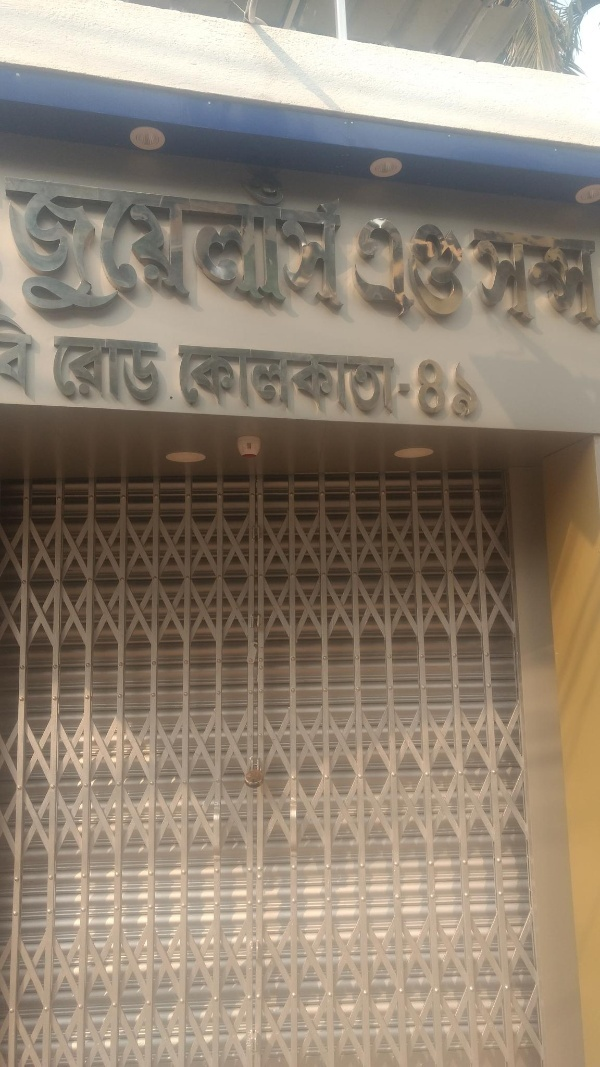text: (17, 175, 32, 312), (33, 175, 48, 312), (49, 175, 64, 312), (65, 175, 80, 312), (81, 175, 96, 312), (97, 175, 112, 312), (113, 175, 128, 312), (129, 175, 144, 312), (145, 175, 160, 312), (161, 175, 176, 312), (177, 175, 192, 312), (193, 175, 208, 312), (209, 175, 224, 312), (225, 175, 240, 312), (241, 175, 256, 312), (257, 175, 272, 312), (273, 175, 288, 312), (289, 175, 304, 312), (305, 175, 320, 312), (321, 175, 336, 312), (3, 175, 16, 312), (353, 215, 368, 320), (369, 215, 384, 320), (385, 215, 400, 320), (401, 215, 416, 320), (417, 215, 432, 320), (433, 215, 448, 320), (449, 215, 464, 320), (481, 228, 496, 331), (497, 228, 512, 331), (513, 228, 528, 331), (529, 228, 544, 331), (545, 228, 560, 331), (561, 228, 576, 331), (577, 228, 592, 331), (1, 314, 16, 398), (17, 314, 32, 398), (193, 345, 208, 419), (209, 345, 224, 419), (225, 345, 240, 419), (241, 345, 256, 419), (257, 345, 272, 419), (273, 345, 288, 419), (289, 345, 304, 419), (305, 345, 320, 419), (321, 345, 336, 419), (337, 345, 352, 419), (353, 345, 368, 419), (369, 345, 384, 419), (385, 345, 400, 419), (337, 175, 345, 312), (178, 345, 192, 419), (470, 228, 480, 331), (65, 337, 80, 405), (81, 337, 96, 405), (97, 337, 112, 405), (113, 337, 128, 405), (129, 337, 144, 405), (145, 337, 160, 405), (433, 358, 448, 418), (449, 358, 464, 418), (465, 358, 480, 418), (419, 358, 432, 418), (401, 345, 411, 419), (257, 165, 272, 207), (273, 165, 288, 207), (55, 337, 64, 405), (593, 228, 598, 331), (247, 165, 256, 207), (481, 358, 487, 418), (289, 165, 297, 207), (465, 215, 468, 320), (351, 215, 352, 320)
